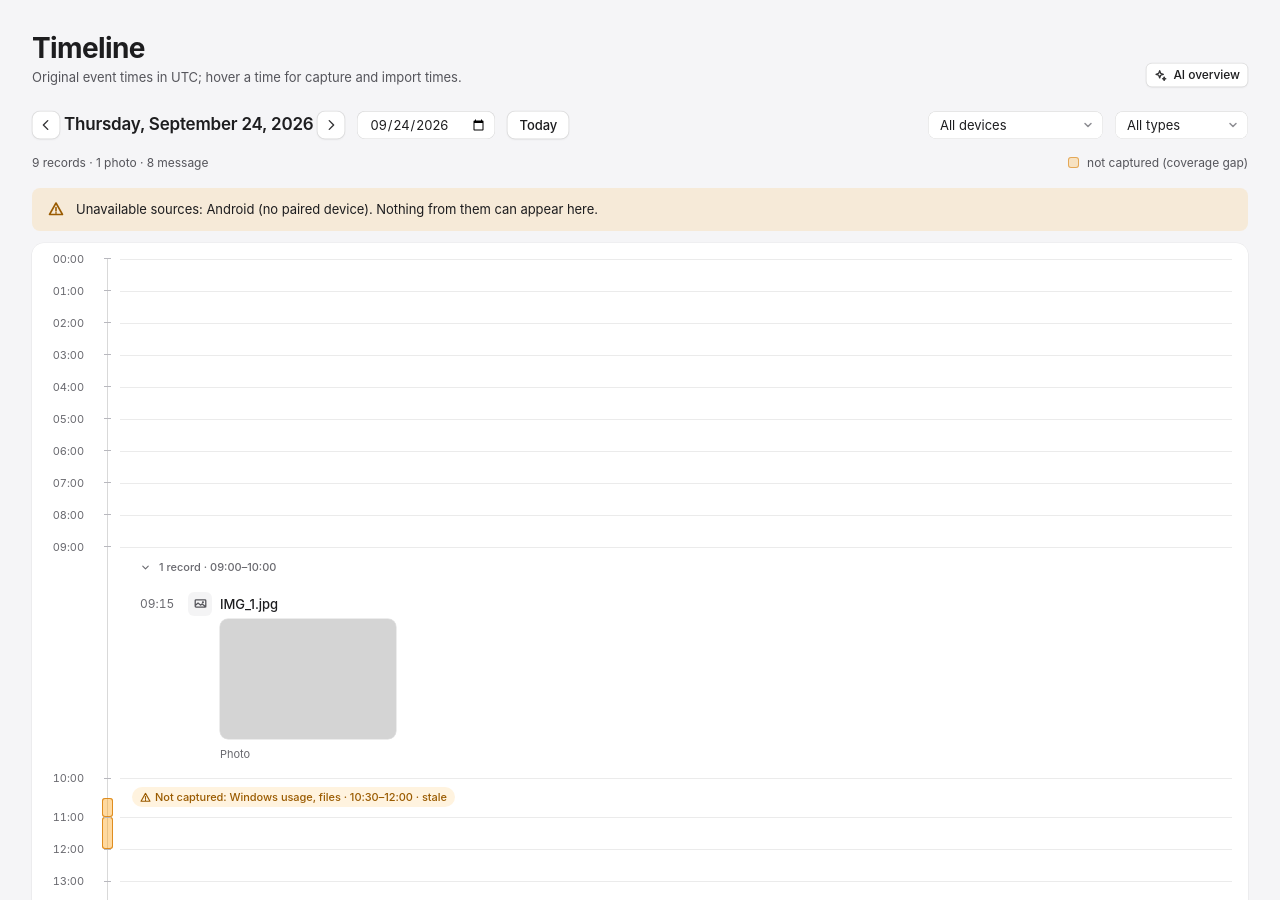
timeline › date navigation and the AI drawer
Click the button named "Next day": click(332, 125) left=318, top=111, right=346, bottom=139
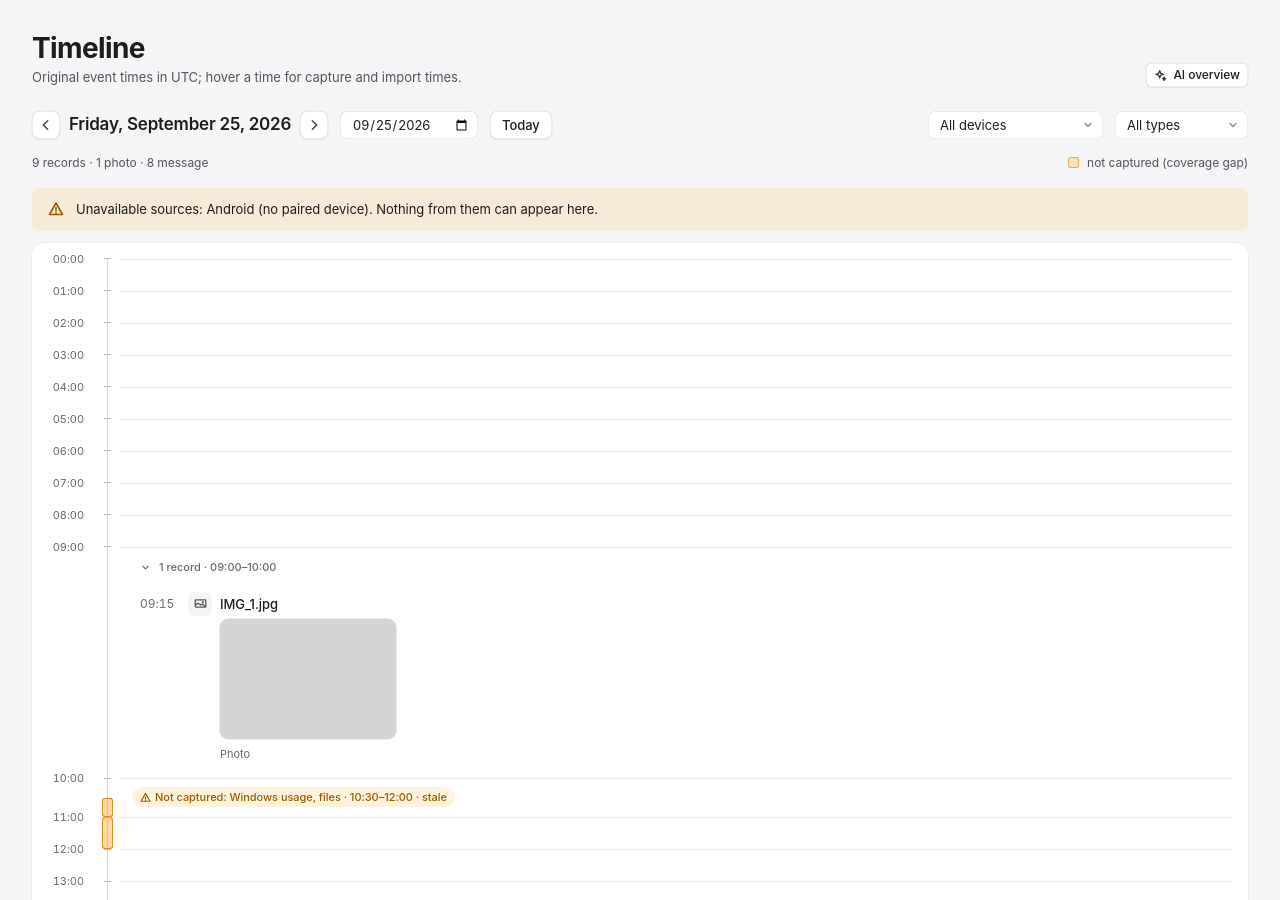
Click the button named "Previous day": click(46, 125) left=32, top=111, right=60, bottom=139
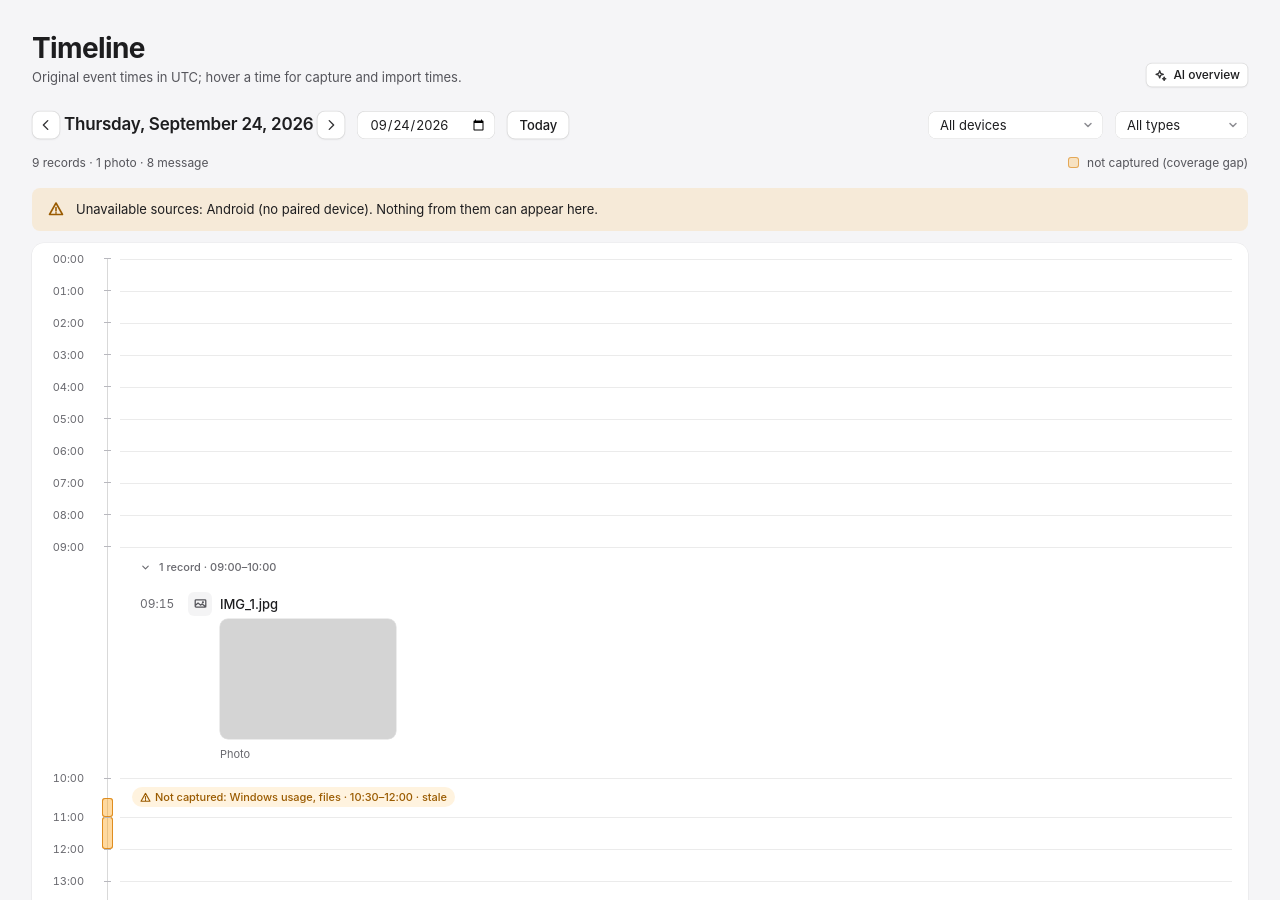
Click the button named "Previous day": click(46, 125) left=32, top=111, right=60, bottom=139
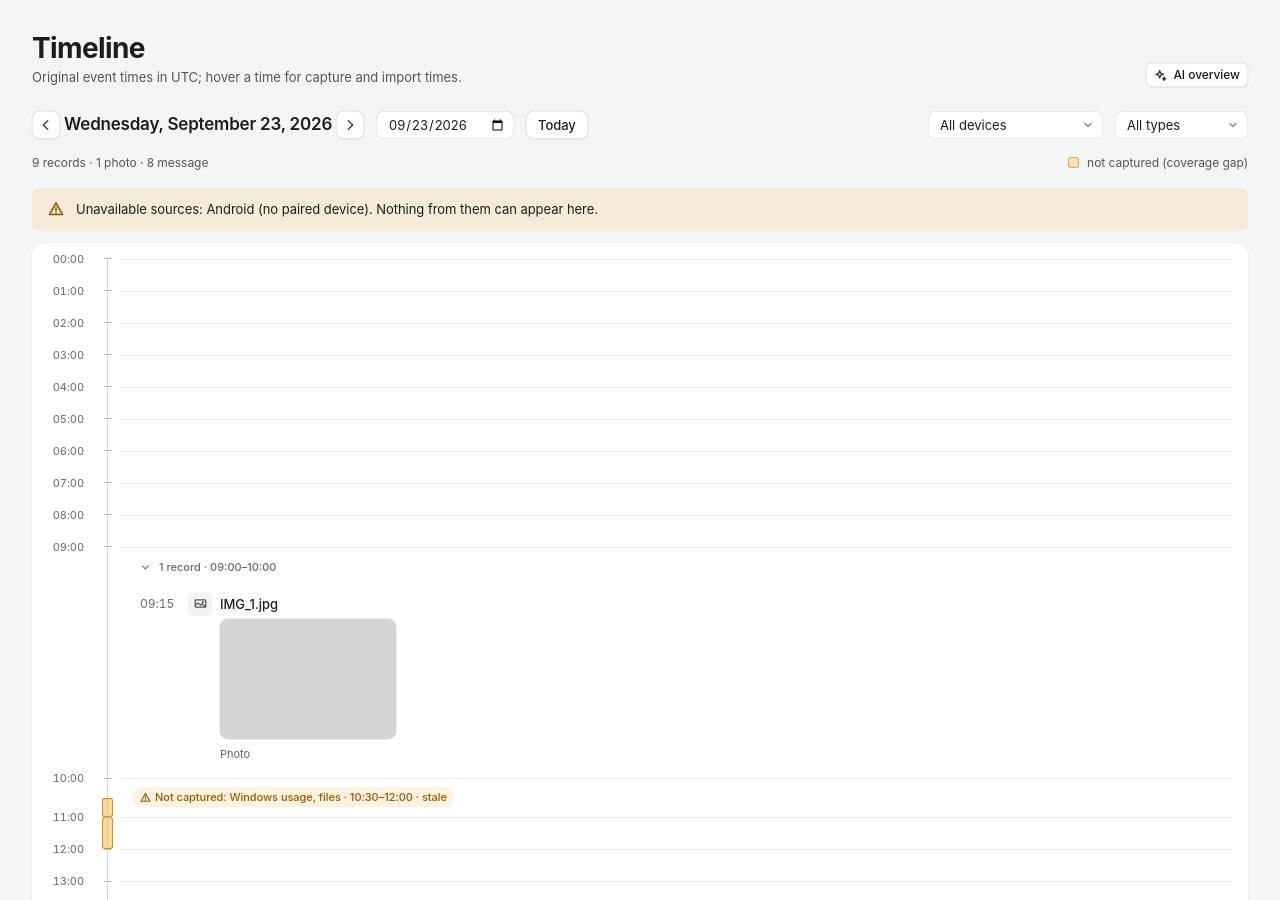
Click the button "AI overview": click(1197, 75) left=1146, top=63, right=1248, bottom=87
(page scrolled)
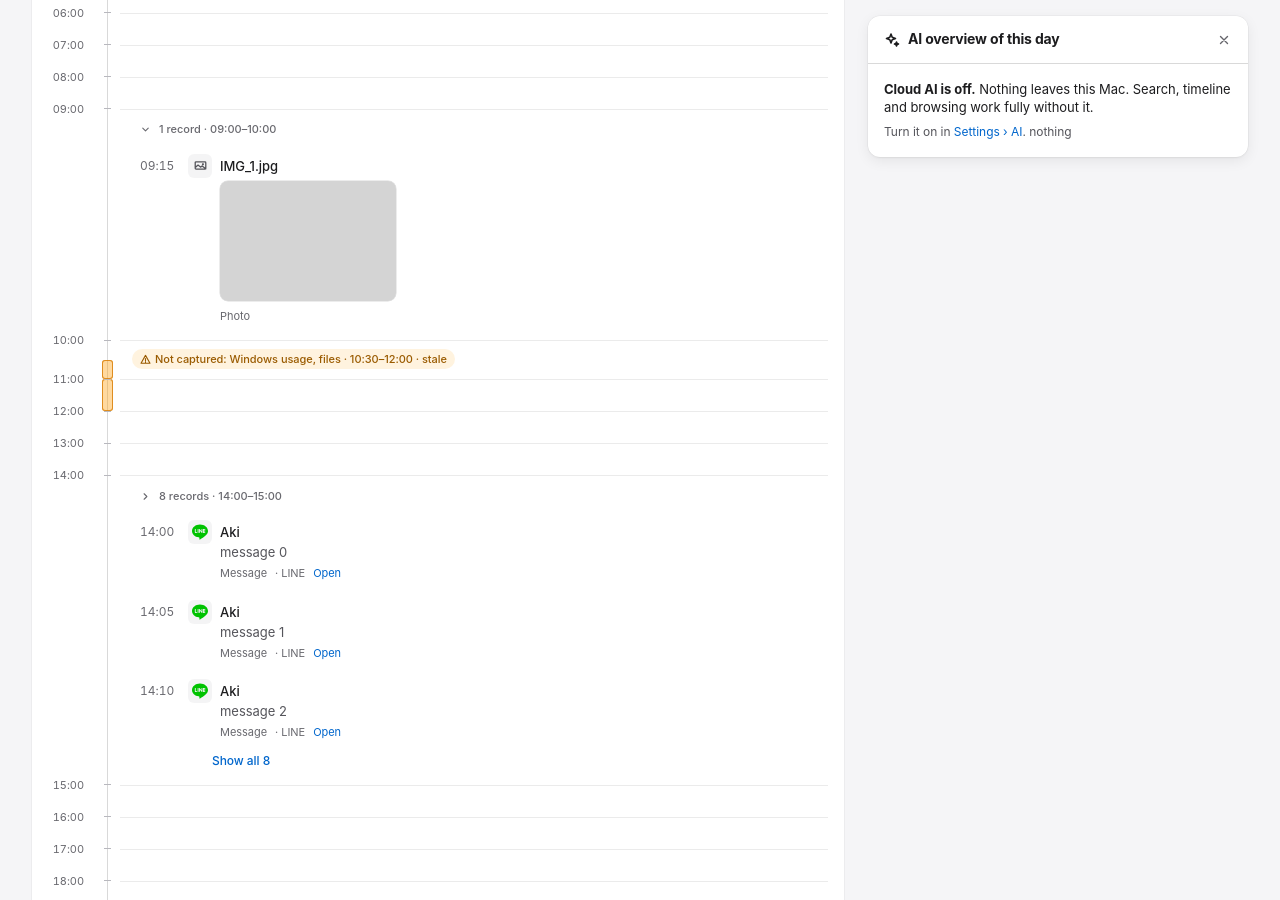
Check: the text "Cloud AI is off." is shown, box left=884, top=81, right=976, bottom=97
